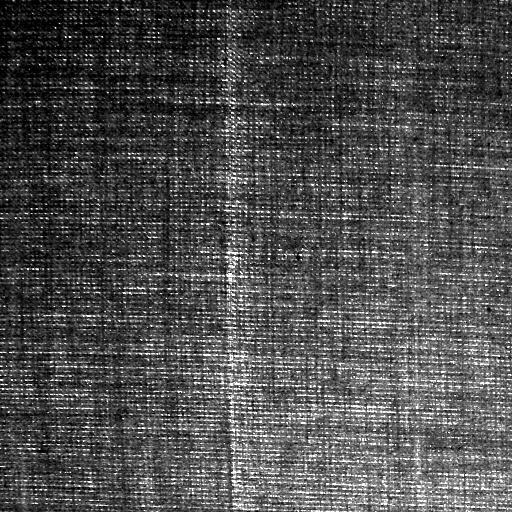fabric_missing_pick: (210, 10, 249, 502)
